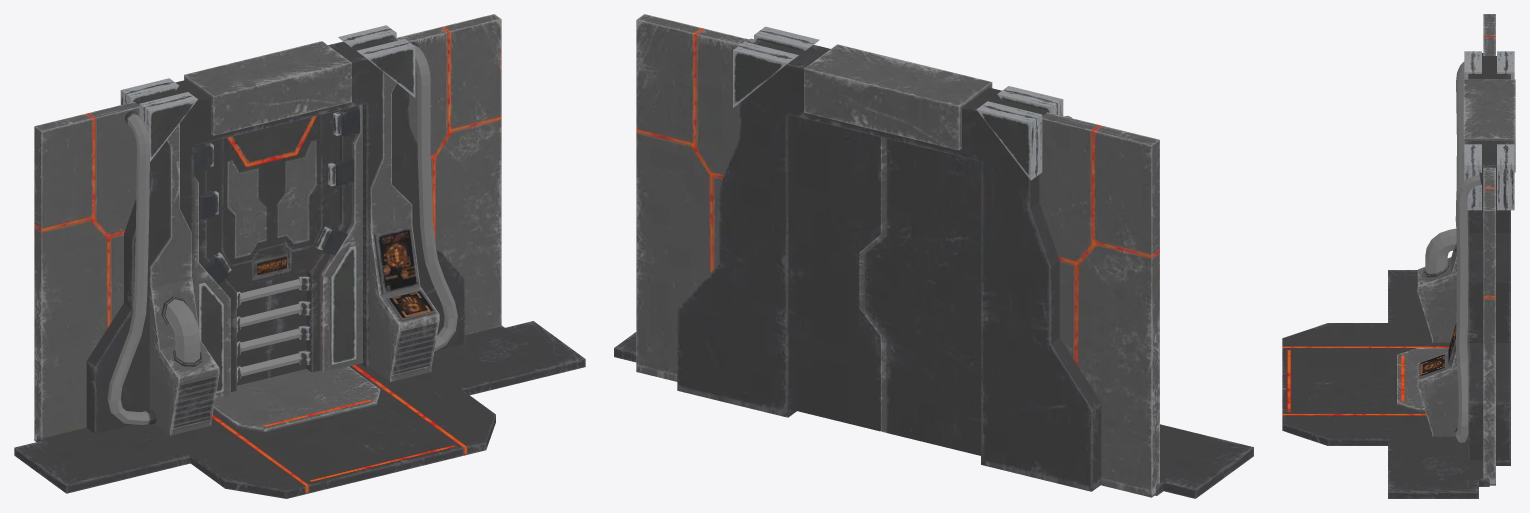
Rendered from herald-door.glb.
3 renders of one model, left to right at view 1: azimuth 30°, elevation 25°; view 2: azimuth 150°, elevation 25°; view 3: azimuth 270°, elevation 25°, orthographic. The views are drawn at different scales.
Visible parts, largest first — view 1: Object_39, Object_25, Object_31, Object_27, Object_33, Object_55, Object_43, Object_47, Object_35, Object_45, Object_51, Object_29 (+3 smaller); view 2: Object_39, Object_31, Object_57, Object_41, Object_43, Object_45, Object_25; view 3: Object_25, Object_31, Object_27, Object_39, Object_47, Object_43, Object_45, Object_49, Object_29.
Boxes of the visible parts, x1,y1,x2,y2 form: Object_39: (34,14,501,441); Object_25: (14,321,585,498); Object_31: (86,37,465,433); Object_27: (149,71,439,435); Object_33: (206,111,339,288); Object_55: (269,104,362,377); Object_43: (184,41,351,135); Object_47: (107,42,457,425); Object_35: (194,143,278,398); Object_45: (120,25,415,161); Object_51: (194,108,360,284); Object_29: (374,225,435,321); Object_39: (636,14,1159,497); Object_31: (677,40,1101,491); Object_57: (859,137,980,455); Object_41: (789,115,880,431); Object_43: (804,44,992,150); Object_45: (733,26,1063,180); Object_25: (614,332,1253,498); Object_25: (1282,270,1489,498); Object_31: (1468,56,1510,465); Object_27: (1417,210,1468,436); Object_39: (1483,14,1495,485); Object_47: (1455,53,1483,442); Object_43: (1463,79,1515,172); Object_45: (1464,51,1514,210); Object_49: (1423,228,1456,277); Object_29: (1419,323,1456,378).
Size of the model in its own units: 7.26 by 4.28 by 3.23.
1 material, 1 textured.
